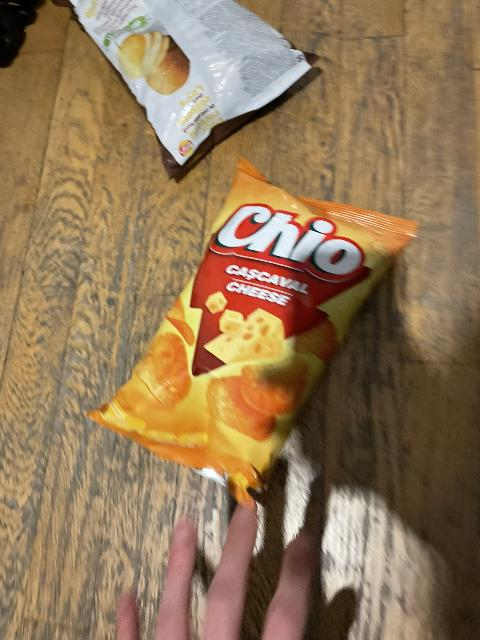Chio Cascaval 125g: (83, 163, 418, 498)
Lays Beef Grilled Ribs 125g: (55, 4, 318, 178)
